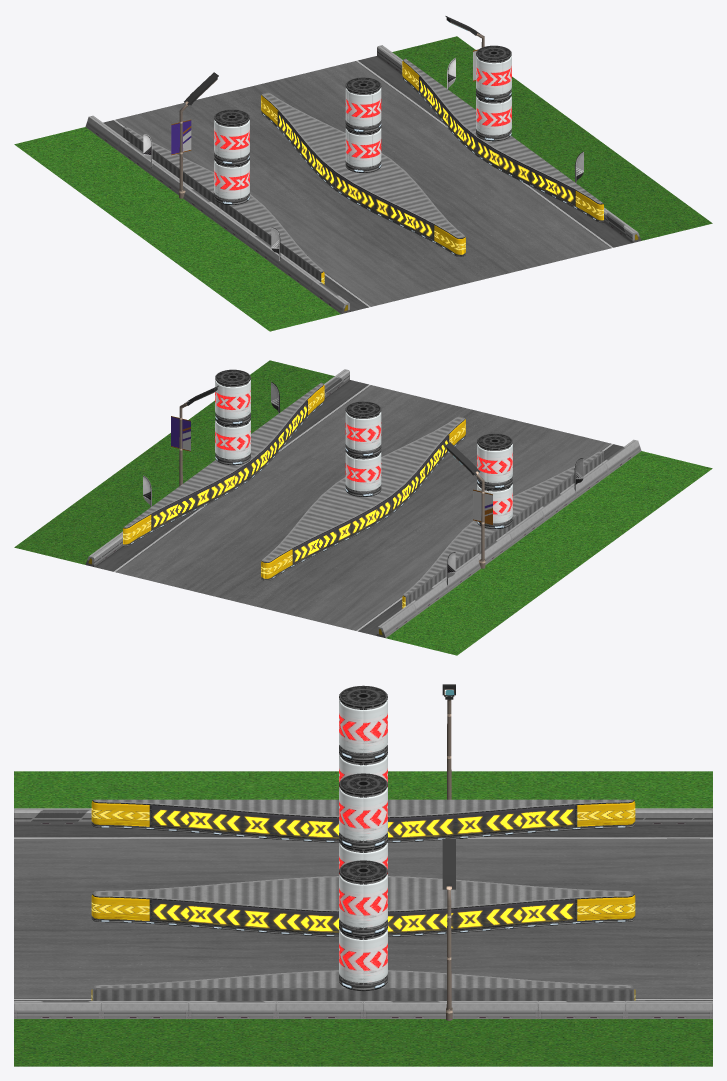
File: T1 - Ground Obstacle 2.fbx
The picture shows the model from 3 angles, top to bottom: view 1: azimuth 30°, elevation 25°; view 2: azimuth 150°, elevation 25°; view 3: azimuth 270°, elevation 25°; orthographic projection. The views are drawn at different scales.
Parts seen in each view (by area): view 1: standard_road, standard_ground_grass, barrier3, wall_straight_ground, pro_streetlight_banner_1, cover_2, cover_3, cover, cover_4, cover_5, cover_1, prop_sta_street_flags (+3 smaller); view 2: standard_road, standard_ground_grass, barrier3, wall_straight_ground, pro_streetlight_banner_1, cover_2, cover_3, cover, cover_1, cover_5, pro_streetlight_banner, prop_sta_street_flags (+4 smaller); view 3: standard_road, standard_ground_grass, barrier3, wall_straight_ground, cover_1, cover_3, cover_5, cover, pro_streetlight_banner, frame_1, frame_3, frame_5 (+3 smaller).
Boxes of the visible parts, box(x1,y1,x2,y2) form: standard_road: box(103, 56, 632, 311); standard_ground_grass: box(14, 36, 712, 331); barrier3: box(123, 58, 604, 284); wall_straight_ground: box(85, 45, 641, 314); pro_streetlight_banner_1: box(171, 72, 218, 198); cover_2: box(345, 128, 381, 167); cover_3: box(345, 87, 381, 126); cover: box(476, 96, 511, 135); cover_4: box(214, 160, 249, 199); cover_5: box(214, 119, 249, 158); cover_1: box(476, 56, 511, 94); prop_sta_street_flags: box(143, 58, 583, 260); standard_road: box(94, 380, 623, 635); standard_ground_grass: box(14, 360, 712, 655); barrier3: box(122, 382, 603, 608); wall_straight_ground: box(85, 369, 641, 638); pro_streetlight_banner_1: box(445, 442, 492, 568); cover_2: box(345, 452, 381, 491); cover_3: box(345, 411, 381, 450); cover: box(215, 420, 250, 459); cover_1: box(215, 380, 250, 418); cover_5: box(477, 443, 512, 482); pro_streetlight_banner: box(171, 385, 218, 486); prop_sta_street_flags: box(143, 382, 583, 584); standard_road: box(14, 824, 712, 1000); standard_ground_grass: box(14, 771, 712, 1066); barrier3: box(91, 799, 635, 1000); wall_straight_ground: box(14, 808, 712, 1018); cover_1: box(339, 874, 387, 927); cover_3: box(339, 787, 387, 840); cover_5: box(339, 700, 387, 753); cover: box(339, 929, 387, 982); pro_streetlight_banner: box(442, 838, 455, 1020); frame_1: box(339, 860, 387, 929); frame_3: box(339, 773, 387, 842); frame_5: box(339, 685, 387, 755).
Size of the model in its own units: 6400 by 1591 by 6400.
